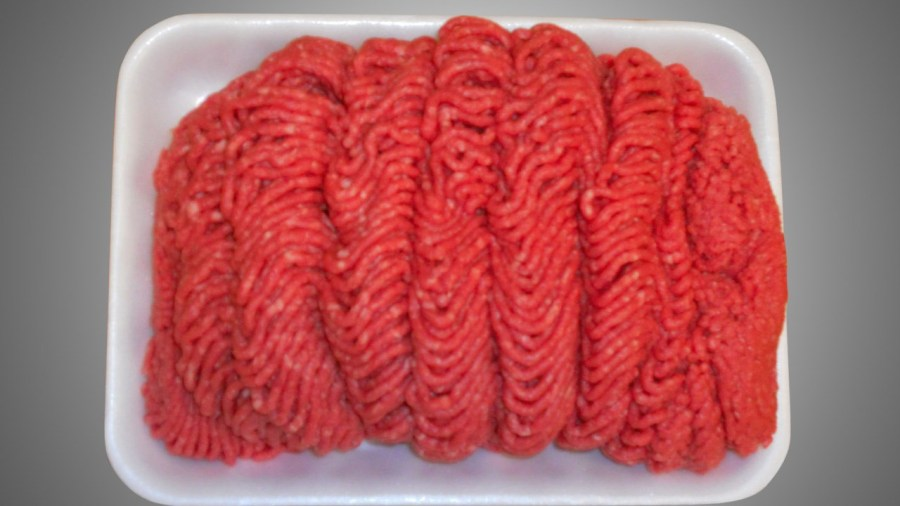ground_beef: (166, 20, 798, 485)
